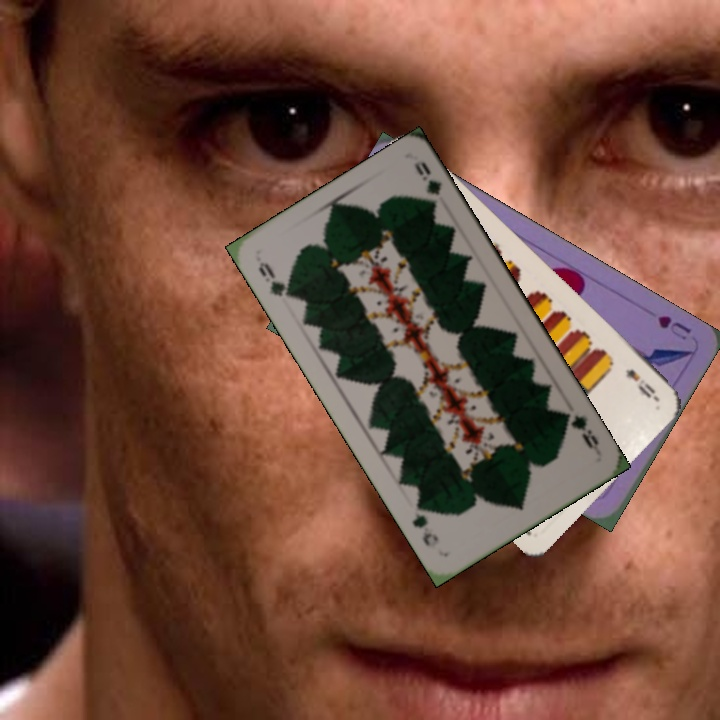E9: (620, 365, 660, 402)
G9: (558, 408, 603, 457), (254, 258, 296, 301)
HU: (653, 311, 694, 343)
